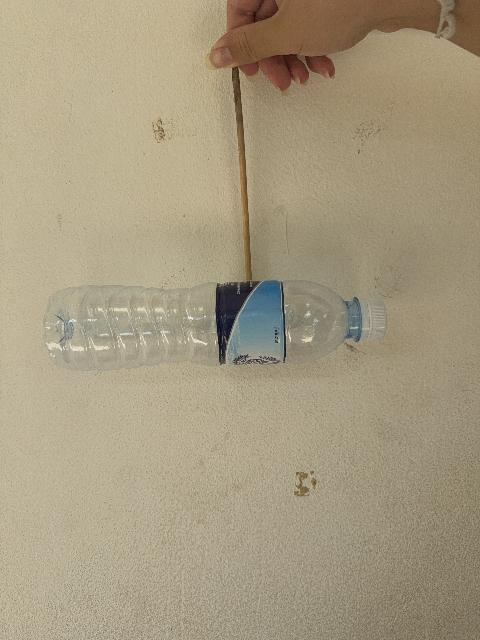bottle: (45, 281, 386, 370)
